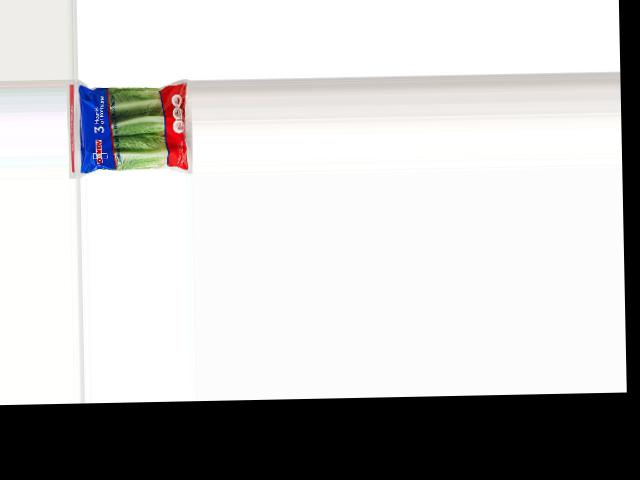lettuce: (76, 81, 193, 174)
